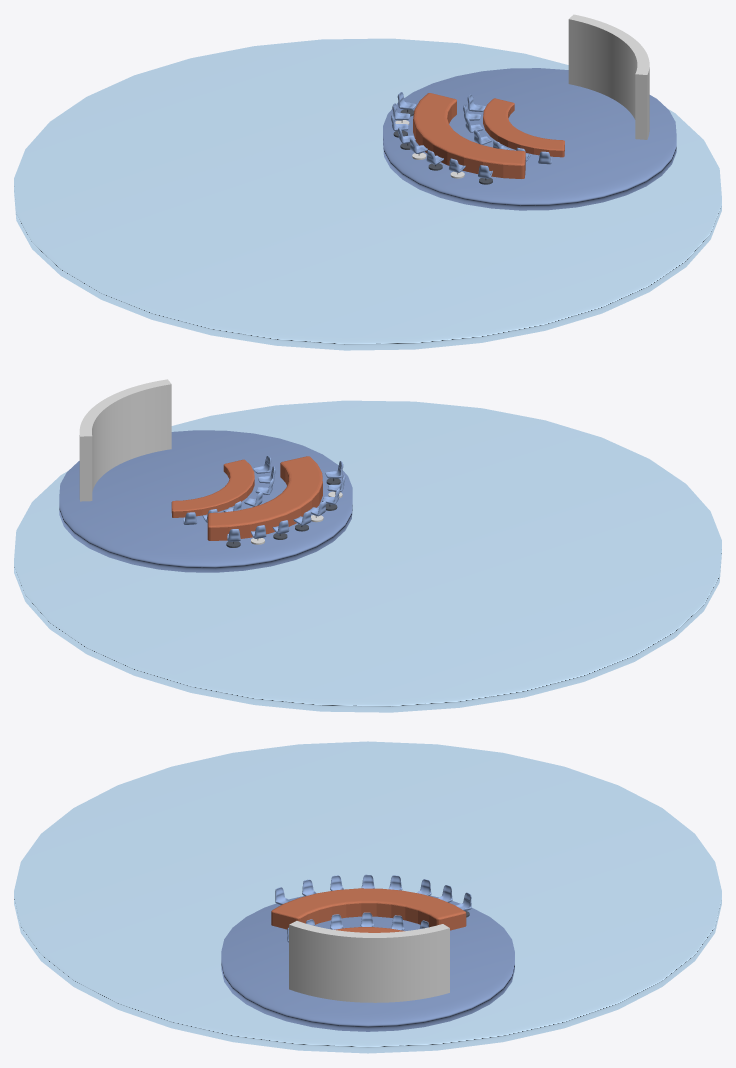
3 views of the same model, one above another, from view 1: azimuth 30°, elevation 25°; view 2: azimuth 150°, elevation 25°; view 3: azimuth 270°, elevation 25° (orthographic).
Visible parts, largest first — view 1: 돔바닥, 강의실바닥, screen, desk, minidesk; view 2: 돔바닥, 강의실바닥, screen, desk, minidesk; view 3: 돔바닥, 강의실바닥, screen, desk.
Boxes of the visible parts, bbox=[...] form: 돔바닥: bbox=[14, 38, 721, 350]; 강의실바닥: bbox=[383, 68, 676, 210]; screen: bbox=[568, 14, 649, 139]; desk: bbox=[413, 93, 525, 178]; minidesk: bbox=[483, 98, 564, 157]; 돔바닥: bbox=[14, 400, 721, 712]; 강의실바닥: bbox=[59, 430, 352, 572]; screen: bbox=[79, 379, 171, 501]; desk: bbox=[207, 456, 322, 540]; minidesk: bbox=[171, 459, 254, 517]; 돔바닥: bbox=[14, 741, 721, 1053]; 강의실바닥: bbox=[221, 895, 514, 1031]; screen: bbox=[289, 921, 449, 1002]; desk: bbox=[271, 888, 466, 930].
Size of the model in its own units: 10000 by 1497 by 10000.
